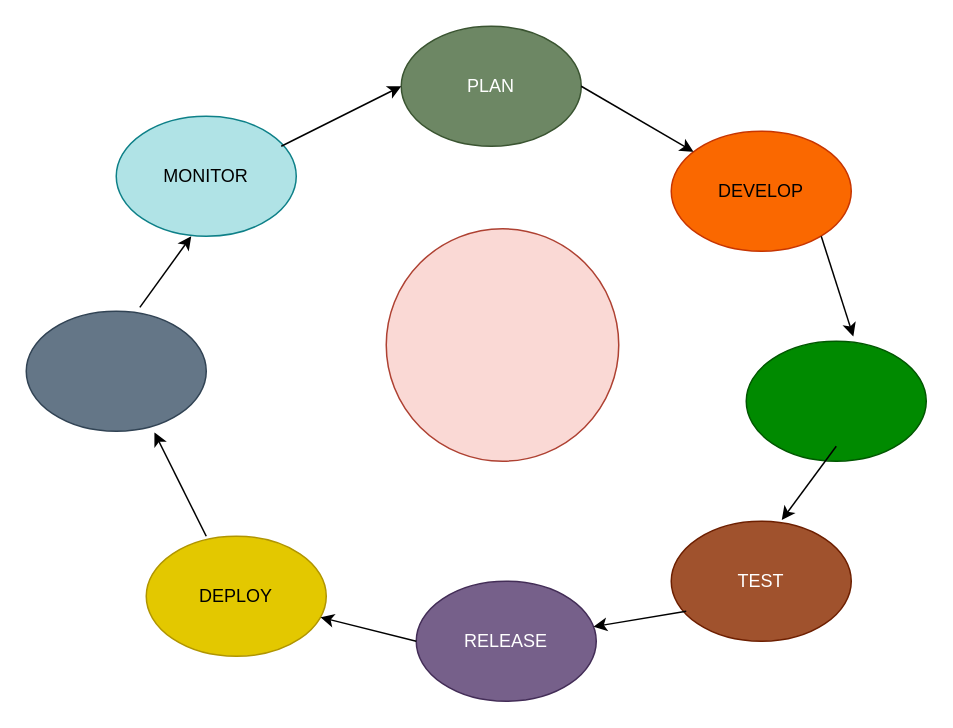
This 953x728 diagram has some shape labels left out. Here are the shapes that lost their labels. From the top down, the centre of each, then its label:
At [502,344]: "DEVEOPS LIFECYCLE".
At [115,370]: "OPERATE".
At [835,400]: "BUILD".
